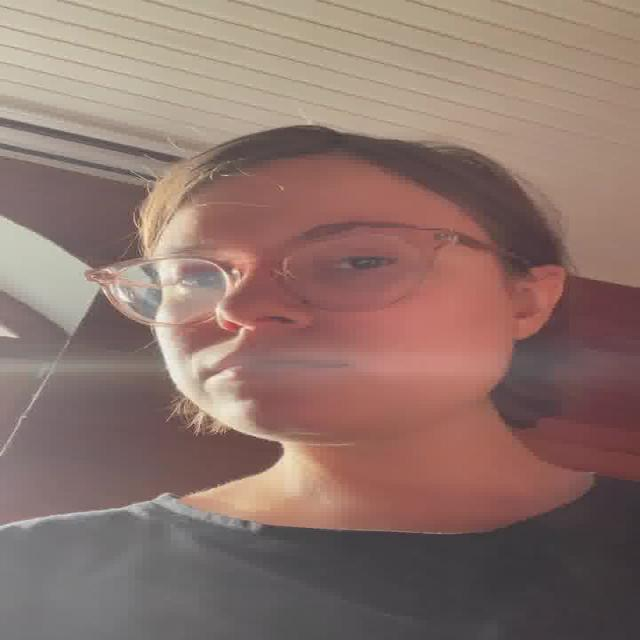earlobe: (510, 264, 566, 341)
